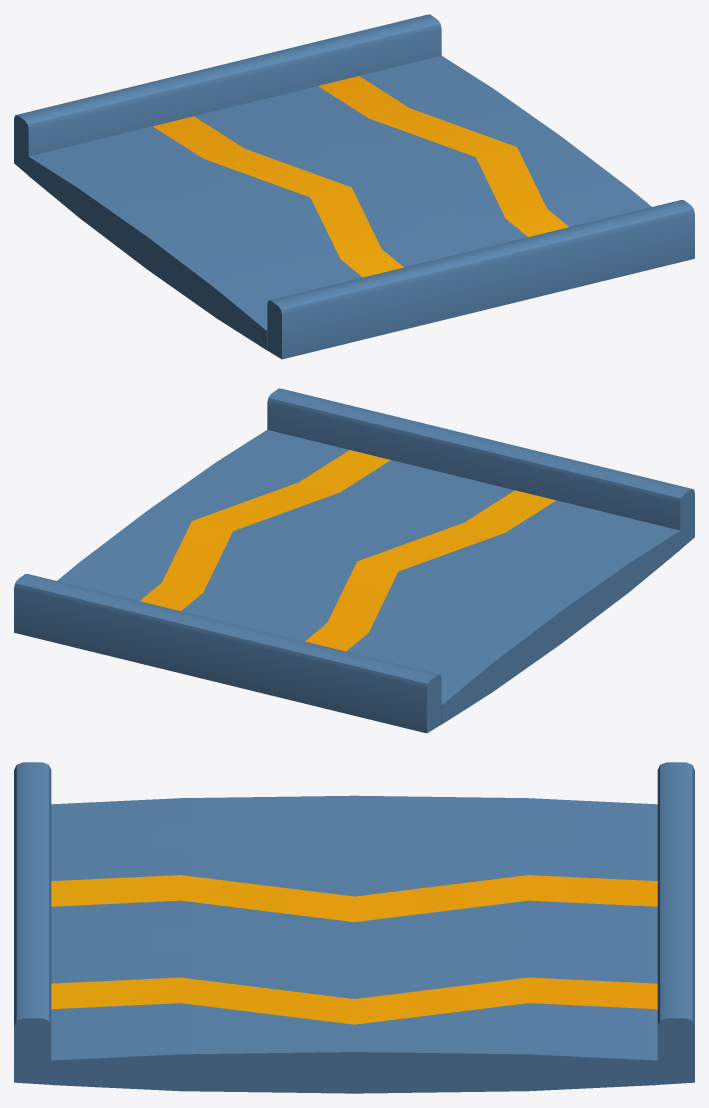
The model's file is Platform.fbx.
The picture shows the model from 3 angles, top to bottom: view 1: azimuth 30°, elevation 25°; view 2: azimuth 150°, elevation 25°; view 3: azimuth 270°, elevation 25°; orthographic projection. The views are drawn at different scales.
Parts seen in each view (by area): view 1: Platform; view 2: Platform; view 3: Platform.
Part boxes in pixels (left/top/right/bottom): Platform: left=14, top=14, right=694, bottom=359; Platform: left=14, top=388, right=694, bottom=733; Platform: left=14, top=762, right=694, bottom=1093.
Bounding box in the file's own units: 200 × 27.35 × 225.
Materials: 1 (1 with a texture image).
